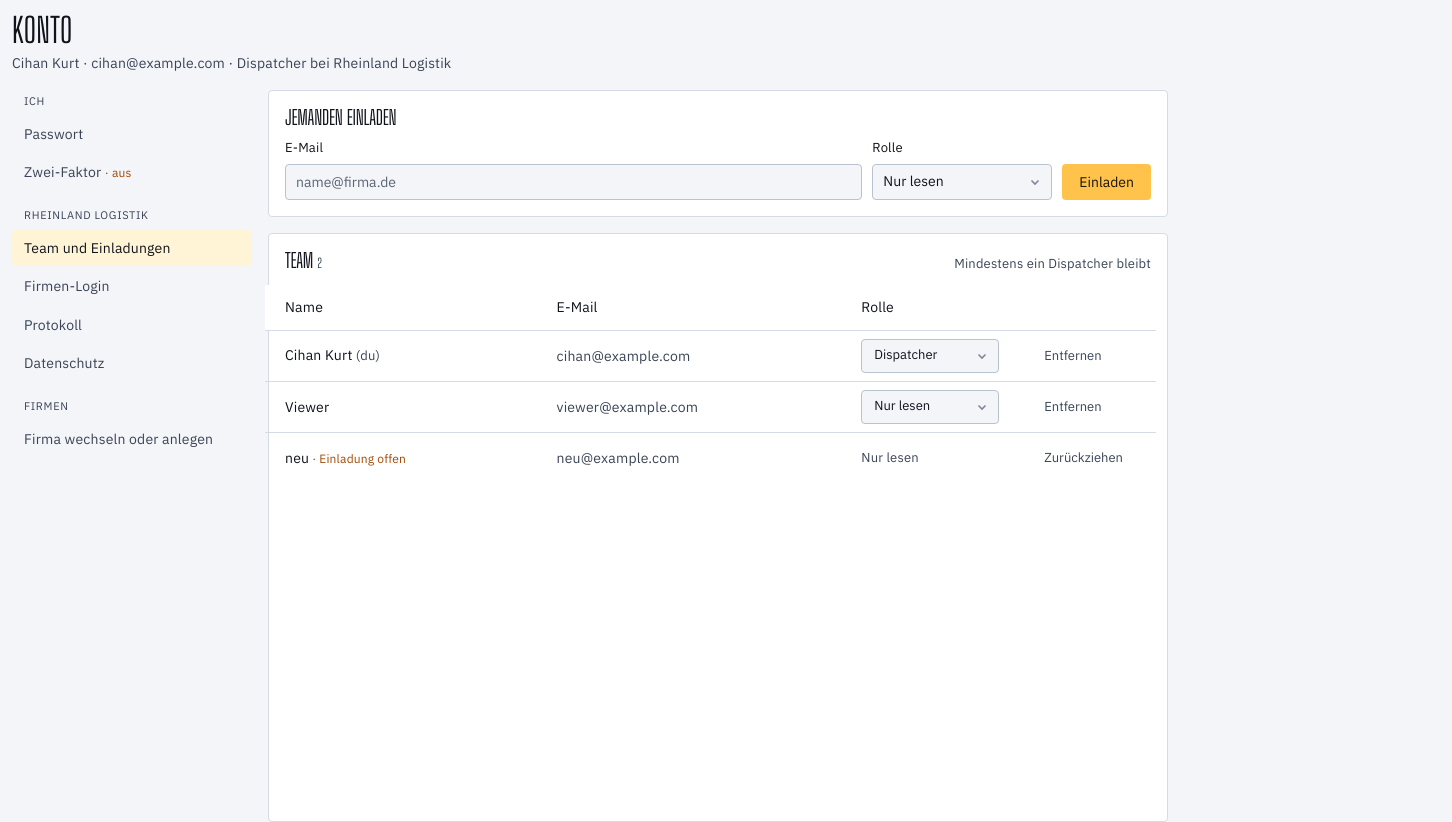
it: account page › shows open invitations in the team and takes one back
Expected: the text "· Einladung offen" is shown, [309,450,406,466]
Step 1. Click the button with aria-label "Einladung an neu@example.com zurückziehen" → {"x": 1084, "y": 458}, box [1031,441,1136,475]
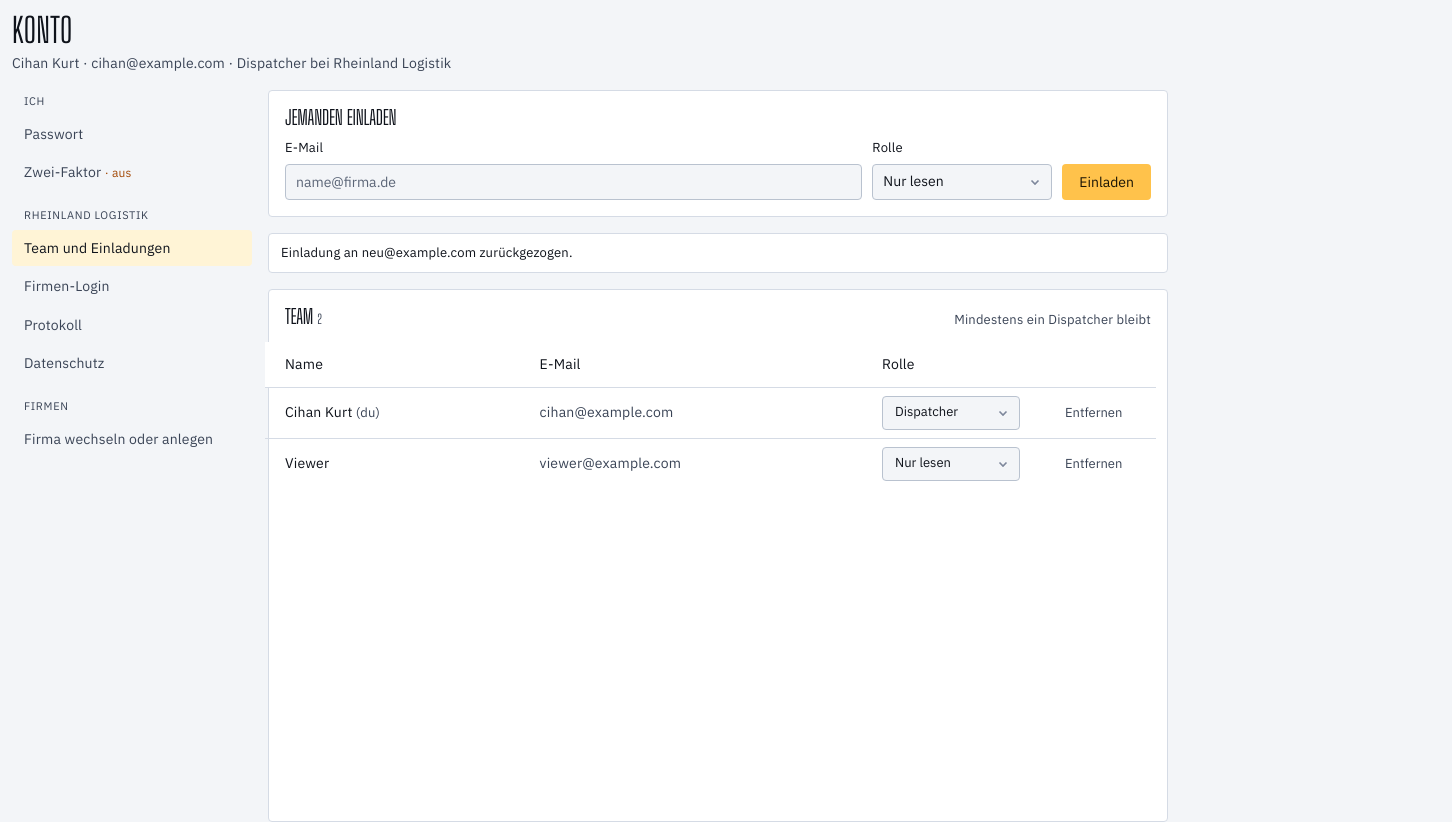
Expected: the text "Einladung an neu@example.com zurückgezogen." is shown, [268,232,1168,273]
